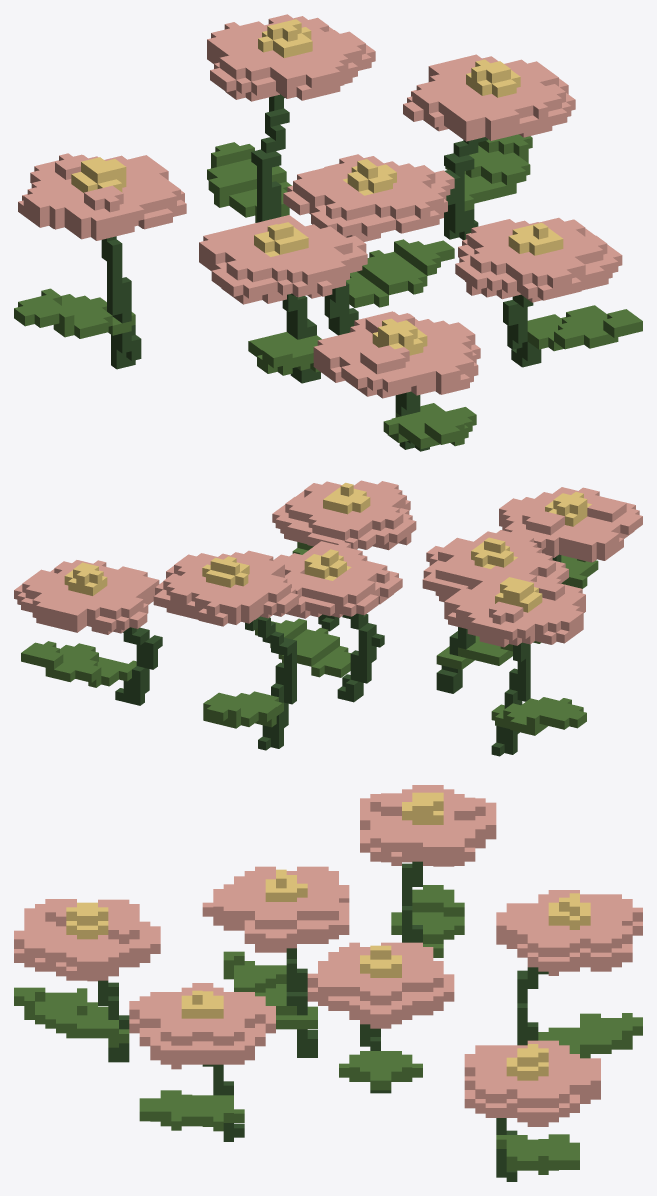
The model's file is flower_cluster_v2_species2_near.glb.
The picture shows the model from 3 angles, top to bottom: view 1: azimuth 30°, elevation 25°; view 2: azimuth 150°, elevation 25°; view 3: azimuth 270°, elevation 25°; orthographic projection. The views are drawn at different scales.
Parts seen in each view (by area): view 1: flower_cluster_v2_species2_near; view 2: flower_cluster_v2_species2_near; view 3: flower_cluster_v2_species2_near.
Boxes of the visible parts, bbox=[...] form: flower_cluster_v2_species2_near: bbox=[14, 14, 642, 451]; flower_cluster_v2_species2_near: bbox=[14, 480, 642, 756]; flower_cluster_v2_species2_near: bbox=[14, 785, 642, 1181].
Bounding box in the file's own units: 1.94 × 0.6875 × 1.88.
Materials: 1 (1 with a texture image).
